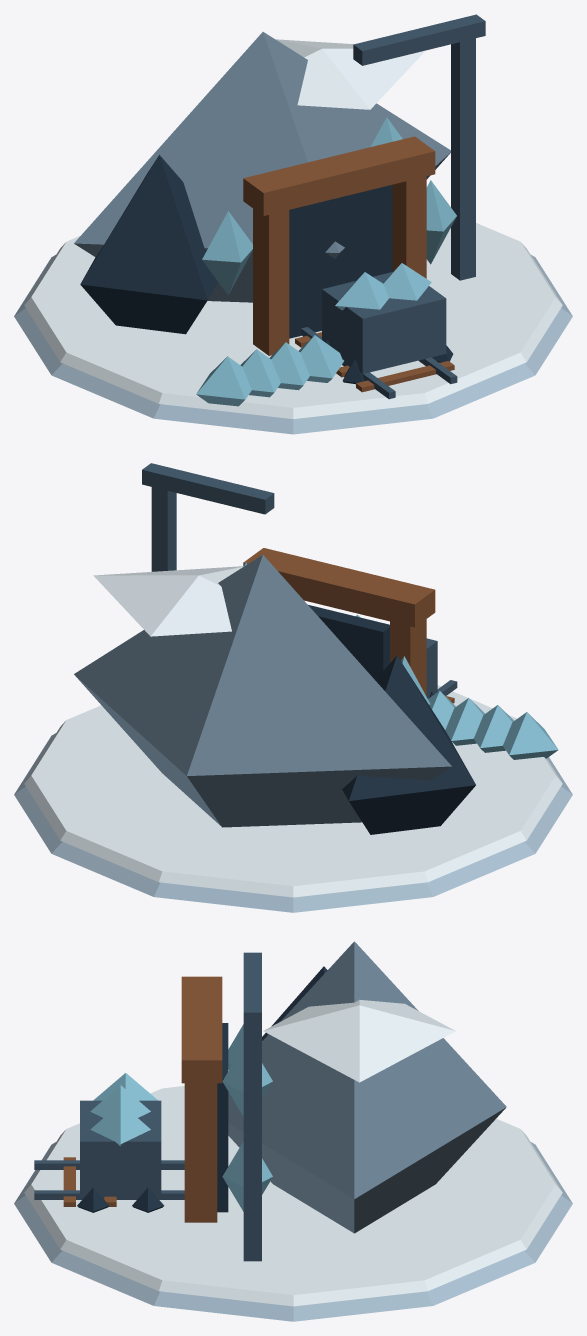
Rendered from res_iron.glb.
3 renders of one model, top to bottom at view 1: azimuth 30°, elevation 25°; view 2: azimuth 150°, elevation 25°; view 3: azimuth 270°, elevation 25°, orthographic.
Visible parts, largest first — view 1: resource_iron; view 2: resource_iron; view 3: resource_iron.
Boxes of the visible parts, left/top/right/bottom form: resource_iron: left=14, top=14, right=572, bottom=434; resource_iron: left=14, top=463, right=572, bottom=912; resource_iron: left=14, top=941, right=572, bottom=1321.
Bounding box in the file's own units: 5.5 × 3.71 × 5.5.
